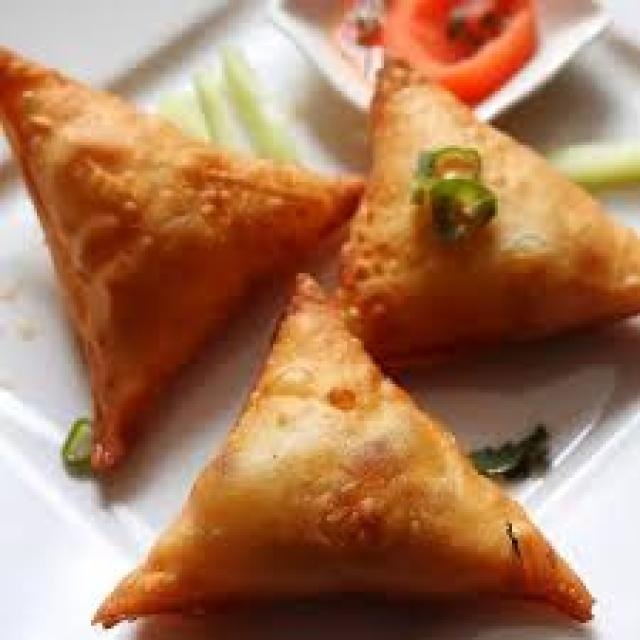SAMOSA: (94, 273, 589, 620), (0, 48, 358, 469), (341, 60, 637, 361)
